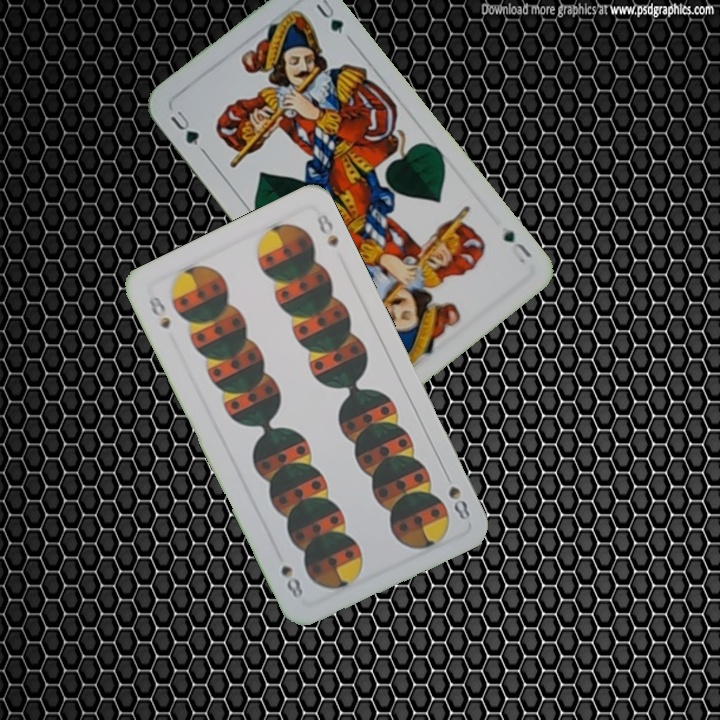GU: (166, 106, 202, 149), (499, 226, 535, 266)
S8: (439, 467, 473, 523), (144, 291, 174, 332)
